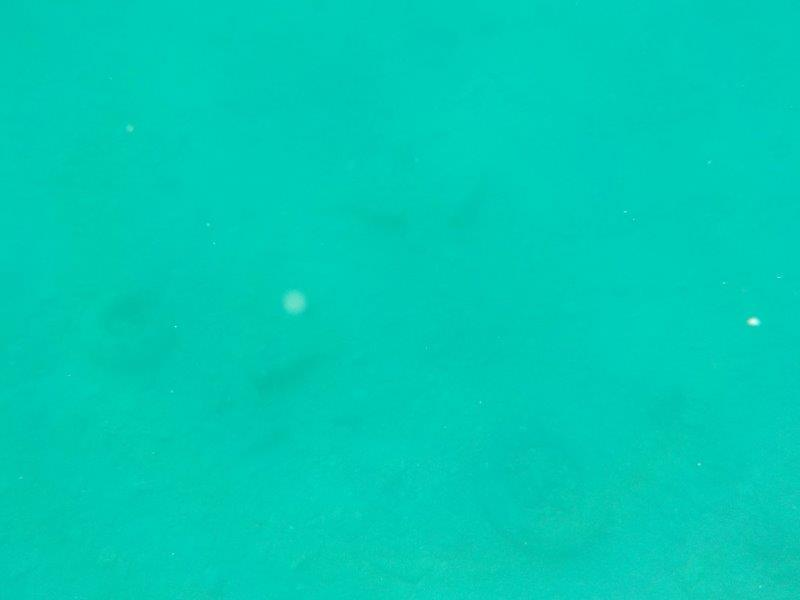tire: (471, 409, 613, 561), (80, 276, 184, 372)
